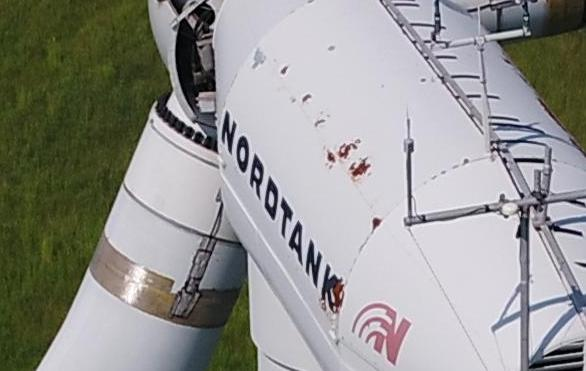damage: (349, 156, 373, 181), (339, 137, 363, 159), (333, 277, 345, 309), (323, 144, 336, 169), (312, 111, 330, 125), (372, 216, 383, 229), (302, 92, 311, 104), (280, 65, 289, 76), (291, 96, 297, 103)
